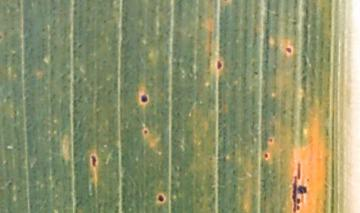tarspot: (292, 175, 297, 213), (296, 163, 302, 181), (90, 155, 98, 167), (297, 185, 307, 194), (215, 59, 223, 70), (140, 93, 148, 102), (157, 194, 165, 203), (262, 152, 270, 160), (285, 46, 292, 54), (142, 128, 149, 135), (267, 137, 274, 144), (296, 198, 301, 205), (296, 205, 301, 211)
